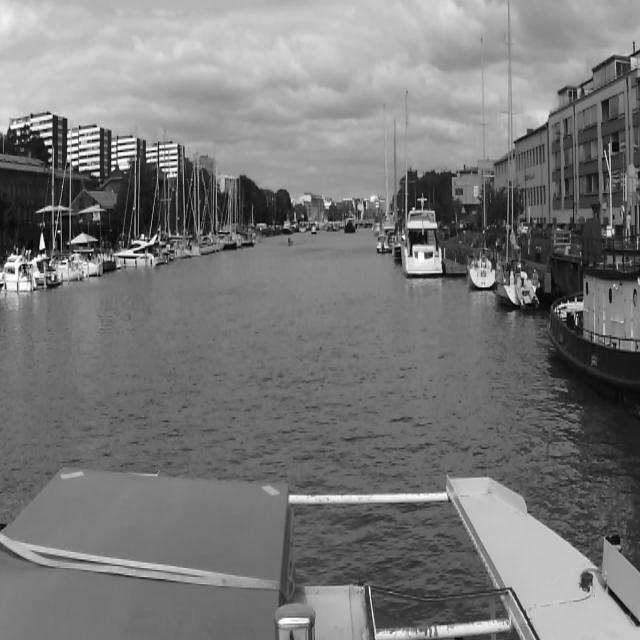ship: (544, 136, 640, 395), (495, 0, 544, 317), (28, 149, 88, 287), (467, 40, 495, 299), (119, 139, 175, 265), (146, 145, 194, 261), (175, 143, 217, 255), (400, 190, 448, 284), (111, 231, 165, 270), (24, 250, 70, 290), (0, 251, 38, 294), (343, 207, 357, 237), (376, 234, 389, 254), (322, 220, 340, 233), (282, 220, 294, 236), (286, 237, 294, 249), (311, 225, 317, 236)
